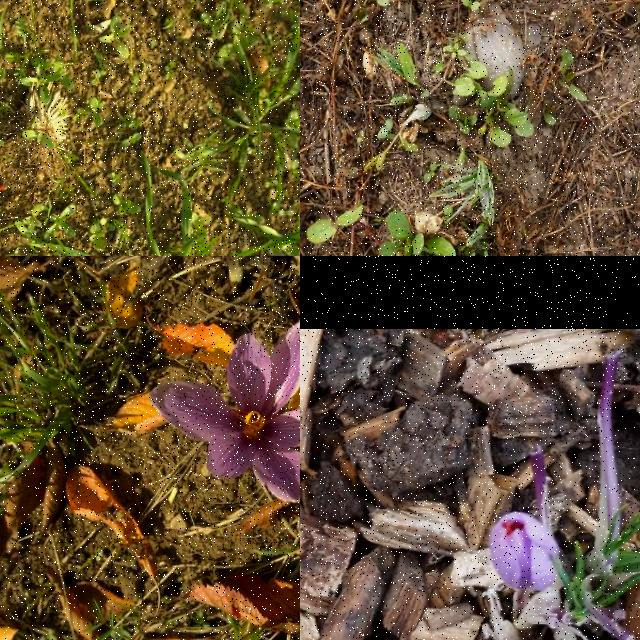flower: (148, 315, 300, 502), (491, 512, 561, 592)
